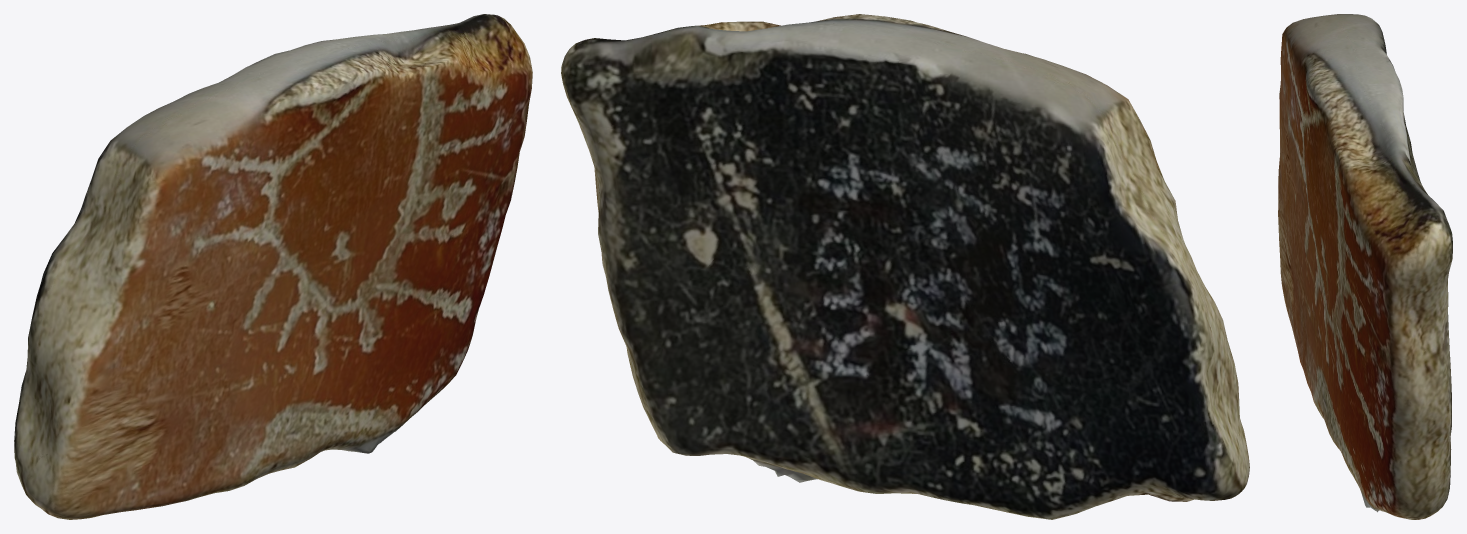
Rendered from GRAFFITI-KLD-4-ZB-5-1-185.glb.
3 renders of one model, left to right at view 1: azimuth 30°, elevation 25°; view 2: azimuth 150°, elevation 25°; view 3: azimuth 270°, elevation 25°, orthographic. The views are drawn at different scales.
Visible parts, largest first — view 1: EMB_GRAFFITI-KLD-4-ZB-5-1-185; view 2: EMB_GRAFFITI-KLD-4-ZB-5-1-185; view 3: EMB_GRAFFITI-KLD-4-ZB-5-1-185.
Part boxes in pixels (bbox=[...]): EMB_GRAFFITI-KLD-4-ZB-5-1-185: bbox=[14, 14, 532, 519]; EMB_GRAFFITI-KLD-4-ZB-5-1-185: bbox=[561, 14, 1249, 519]; EMB_GRAFFITI-KLD-4-ZB-5-1-185: bbox=[1278, 14, 1452, 519].
Bounding box in the file's own units: 0.1625 × 0.117 × 0.0457.
Materials: 1 (1 with a texture image).
